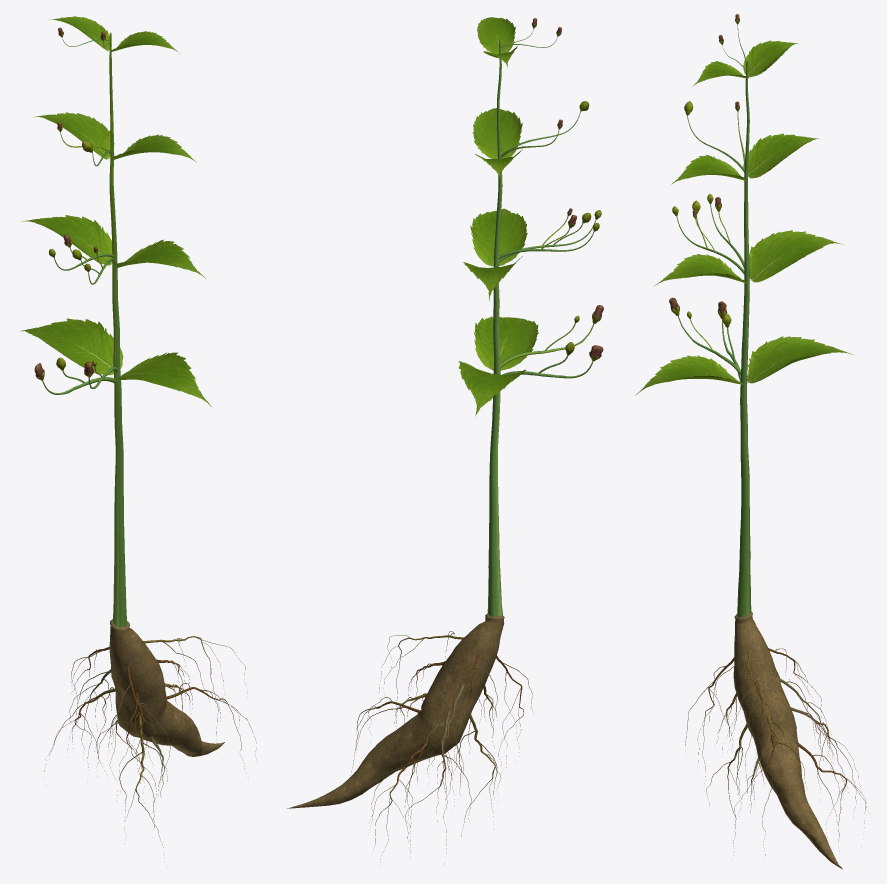
The model's file is changgenshen.fbx.
The picture shows the model from 3 angles, left to right: view 1: azimuth 30°, elevation 25°; view 2: azimuth 150°, elevation 25°; view 3: azimuth 270°, elevation 25°; orthographic projection. The views are drawn at different scales.
Visible parts, largest first — view 1: chang3:ye, chang3:gen_v3, chang3:jing, chang3:gen, chang3:gen_v2, chang3:hua, chang3:gen_v4; view 2: chang3:ye, chang3:gen_v3, chang3:jing, chang3:gen, chang3:hua, chang3:gen_v2, chang3:gen_v4; view 3: chang3:ye, chang3:gen_v3, chang3:jing, chang3:gen, chang3:hua, chang3:gen_v2, chang3:gen_v4.
Boxes of the visible parts, x1,y1,x2,y2 form: chang3:ye: [21, 16, 211, 406]; chang3:gen_v3: [44, 619, 239, 843]; chang3:jing: [42, 34, 127, 633]; chang3:gen: [49, 641, 256, 816]; chang3:gen_v2: [69, 636, 247, 827]; chang3:hua: [34, 27, 105, 380]; chang3:gen_v4: [71, 657, 190, 861]; chang3:ye: [458, 17, 538, 416]; chang3:gen_v3: [287, 613, 532, 853]; chang3:jing: [487, 29, 595, 616]; chang3:gen: [356, 631, 523, 821]; chang3:hua: [531, 18, 603, 361]; chang3:gen_v2: [350, 635, 521, 844]; chang3:gen_v4: [371, 683, 521, 859]; chang3:ye: [635, 40, 852, 395]; chang3:gen_v3: [685, 612, 860, 869]; chang3:jing: [676, 25, 751, 617]; chang3:gen: [704, 648, 848, 831]; chang3:hua: [669, 14, 739, 327]; chang3:gen_v2: [697, 650, 869, 855]; chang3:gen_v4: [709, 662, 865, 851].
Bounding box in the file's own units: 28.29 × 90.93 × 24.66.
